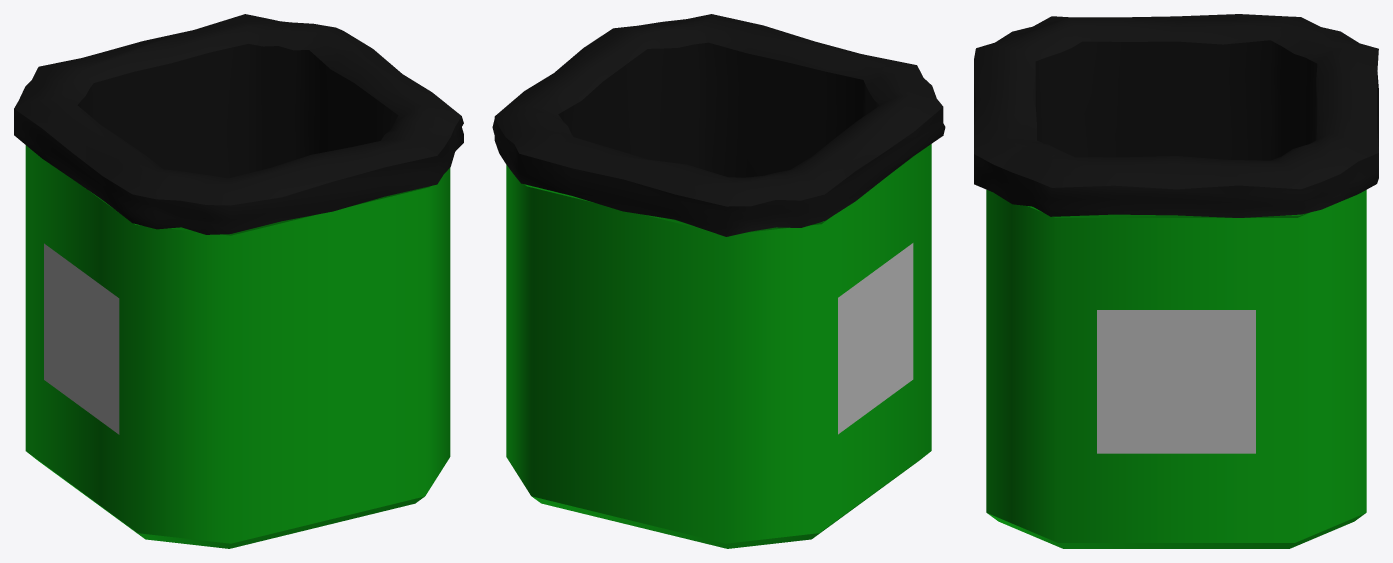
File: bin.obj
The picture shows the model from 3 angles, left to right: view 1: azimuth 30°, elevation 25°; view 2: azimuth 150°, elevation 25°; view 3: azimuth 270°, elevation 25°; orthographic projection. The views are drawn at different scales.
Parts seen in each view (by area): view 1: Cube, Cube.001, Plane.001; view 2: Cube, Cube.001, Plane.001; view 3: Cube, Cube.001, Plane.
Boxes of the visible parts, bbox=[...] form: Cube: bbox=[25, 145, 450, 548]; Cube.001: bbox=[14, 14, 463, 234]; Plane.001: bbox=[44, 243, 119, 434]; Cube: bbox=[506, 144, 931, 548]; Cube.001: bbox=[492, 14, 945, 236]; Plane.001: bbox=[838, 243, 913, 434]; Cube: bbox=[986, 189, 1366, 548]; Cube.001: bbox=[974, 14, 1378, 217]; Plane: bbox=[1097, 310, 1255, 453].
Size of the model in its own units: 2.13 by 2.23 by 2.13.
